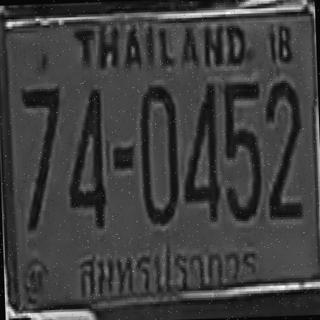N00: (139, 82, 179, 224)
N02: (264, 80, 303, 218)
N04: (65, 85, 107, 228), (180, 82, 220, 222)
N05: (222, 79, 262, 219)
N07: (20, 86, 64, 230)
P57: (72, 230, 264, 298)
